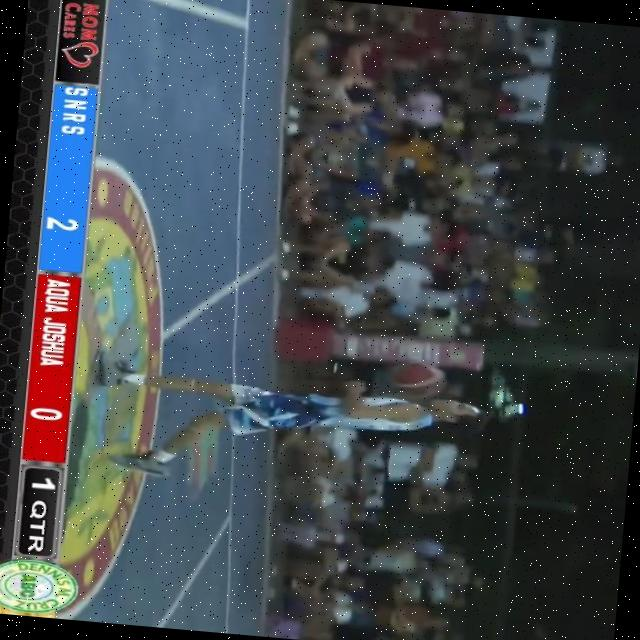ball: (396, 358, 452, 396)
